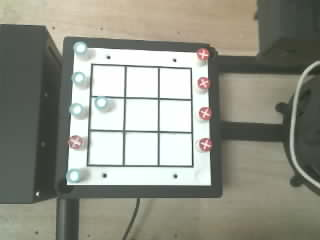blue circle: (66, 169, 80, 182), (69, 103, 83, 116), (94, 97, 109, 109), (72, 72, 85, 85), (73, 42, 87, 54)
board: (66, 42, 212, 185)
cells: (89, 132, 122, 164), (159, 133, 191, 165), (125, 133, 157, 165), (90, 98, 123, 129), (125, 99, 157, 130), (160, 68, 191, 99), (160, 100, 191, 131), (92, 66, 124, 96), (126, 67, 157, 97)
grid: (87, 64, 193, 167)
red cross: (68, 135, 83, 149), (199, 138, 212, 151), (199, 107, 212, 119), (197, 77, 210, 89), (197, 48, 209, 60)
